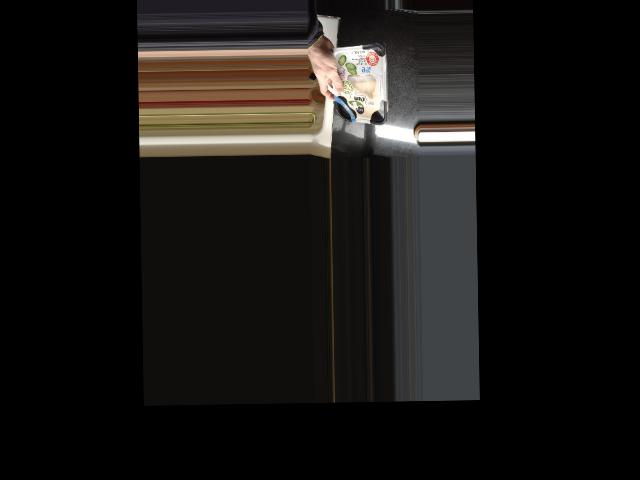cheese: (326, 43, 387, 124)
